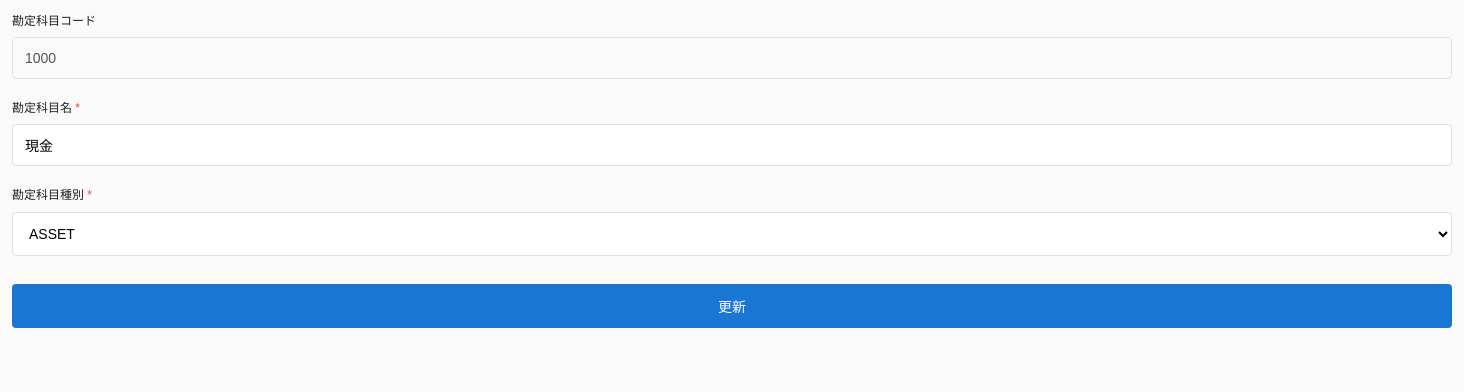
Test case: EditAccountForm › バリデーションエラーの表示（空の勘定科目名、未選択の勘定科目種別）
Clear the field with test id "edit-account-name-input" at (732, 145), box [12,124,1452,166]
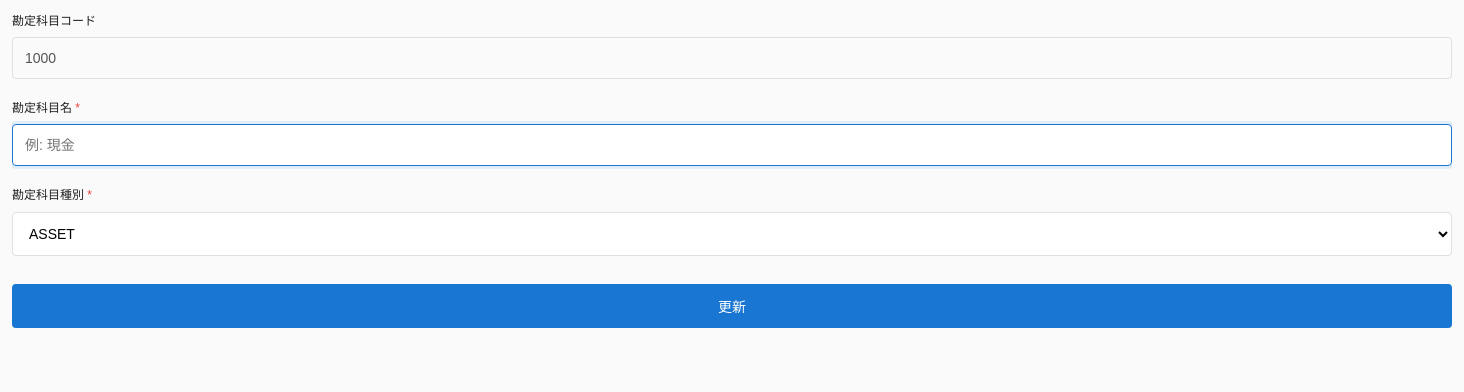
Select "選択してください" in the dropdown with test id "edit-account-type-select" at (732, 234), box [12,212,1452,256]
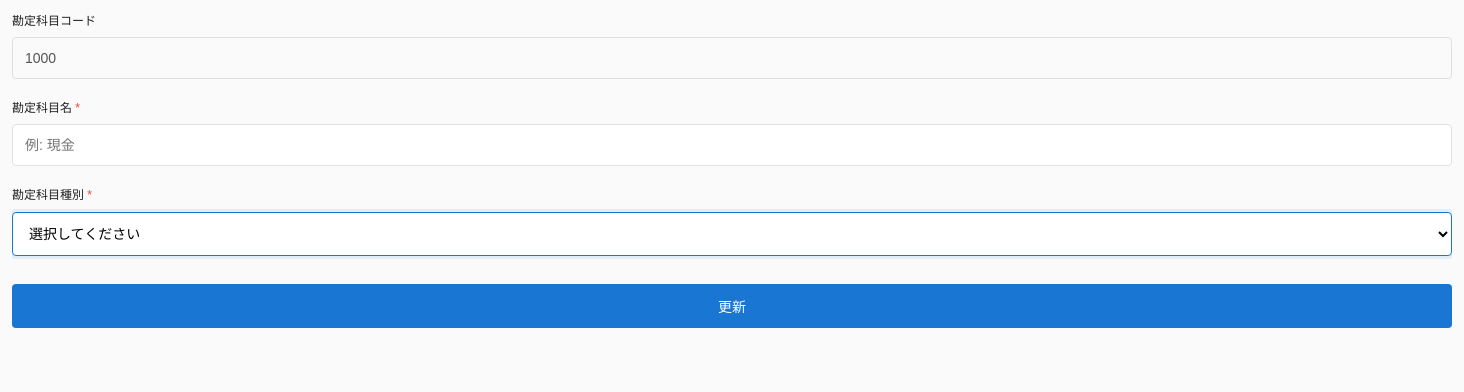
Click the button with test id "edit-account-submit".
click(732, 306)  # box [12,284,1452,328]
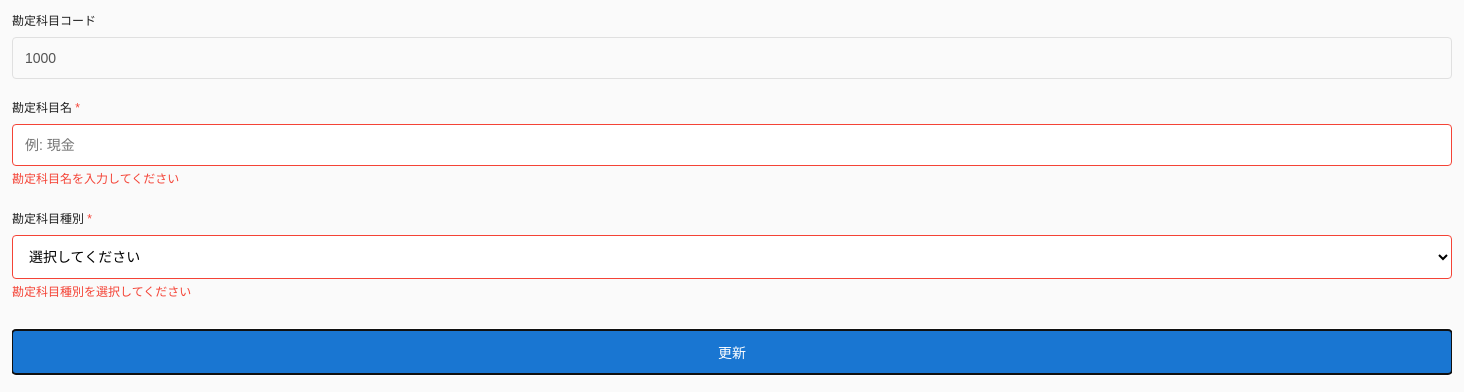
Check: the text "勘定科目名を入力してください" is shown, box [12,172,179,186]
Check: the text "勘定科目種別を選択してください" is shown, box [12,285,191,299]
